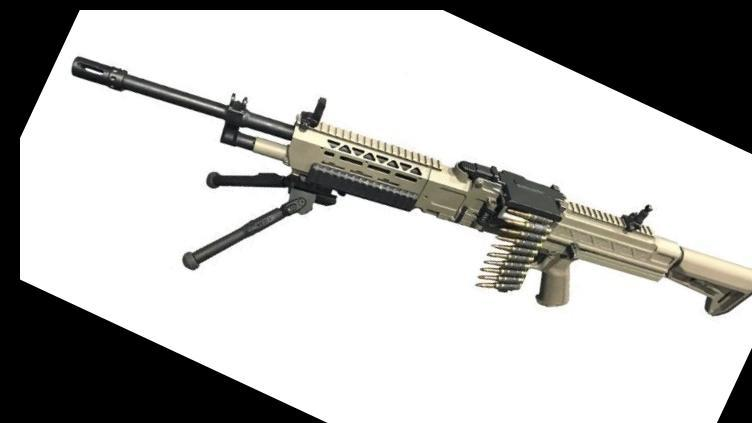larga: (70, 56, 752, 319)
